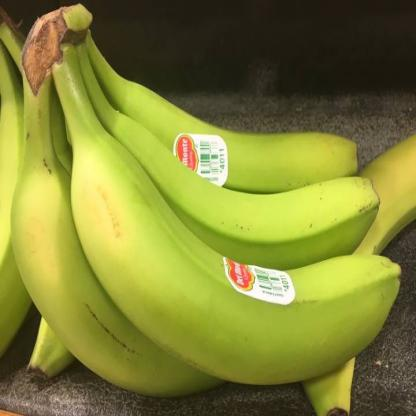banana: (50, 23, 398, 415), (53, 2, 384, 259), (67, 6, 362, 186), (300, 127, 415, 415)
